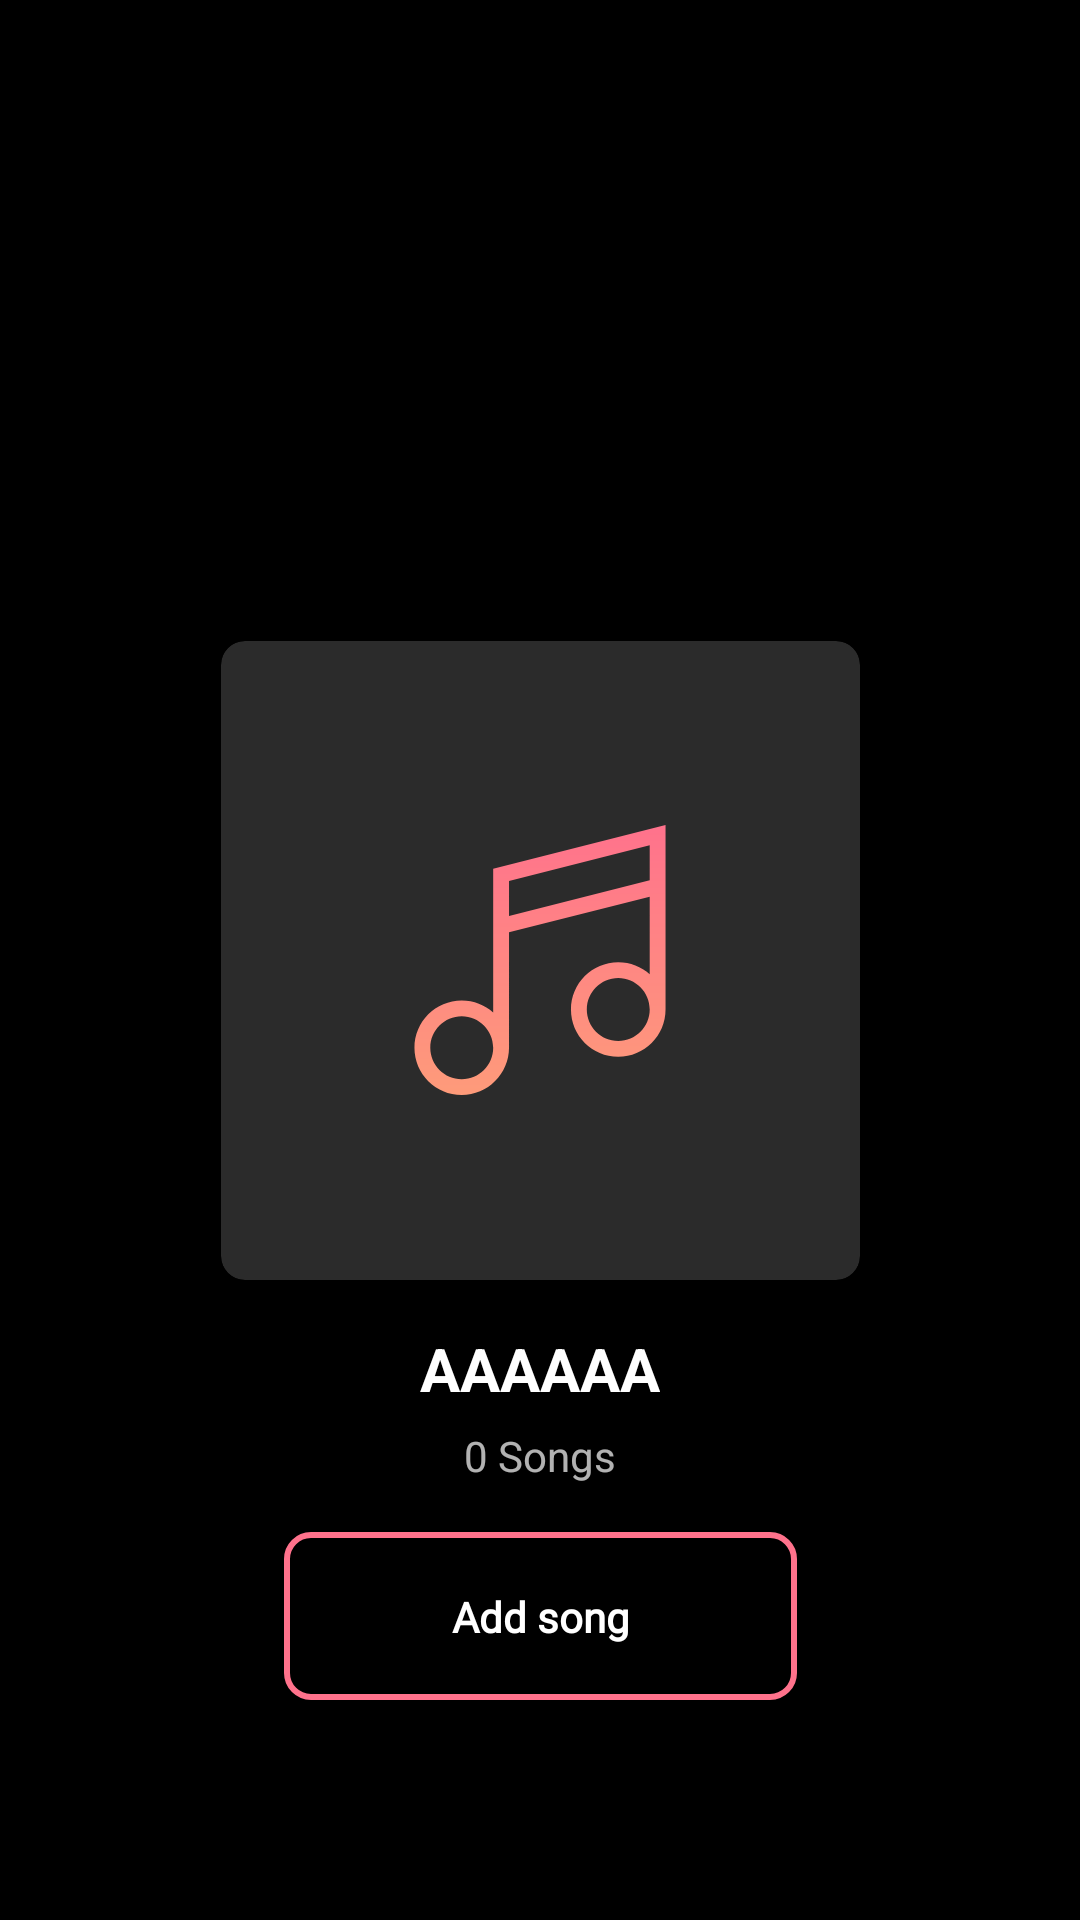

Named icons in this screenshot (1080w x 1920h) and their bounding boxes, BBox(x1, y1, x2, y2):
playlist: BBox(414, 825, 666, 1095)
